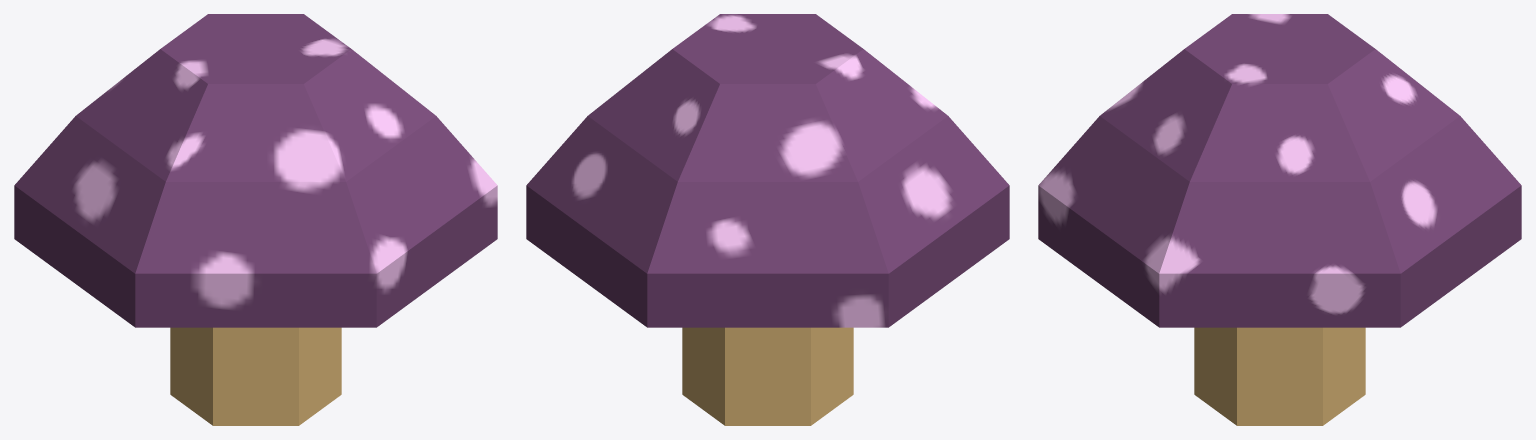
File: Congumelo 1.fbx
The picture shows the model from 3 angles, left to right: view 1: azimuth 30°, elevation 25°; view 2: azimuth 150°, elevation 25°; view 3: azimuth 270°, elevation 25°; orthographic projection.
Parts seen in each view (by area): view 1: 5. Mushroom 1; view 2: 5. Mushroom 1; view 3: 5. Mushroom 1.
Part boxes in pixels (x1,y1,x2,y2): 5. Mushroom 1: [14, 14, 497, 425]; 5. Mushroom 1: [526, 14, 1009, 425]; 5. Mushroom 1: [1038, 14, 1521, 425].
Size of the model in its own units: 55.1 by 50.21 by 63.63.
